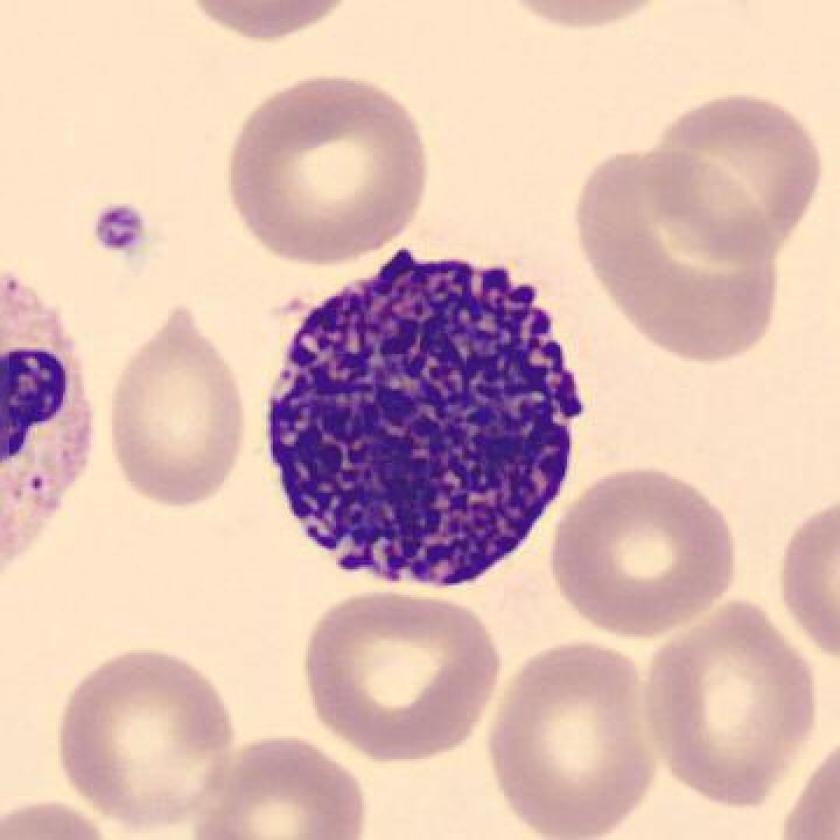basophil: (255, 228, 603, 603)
